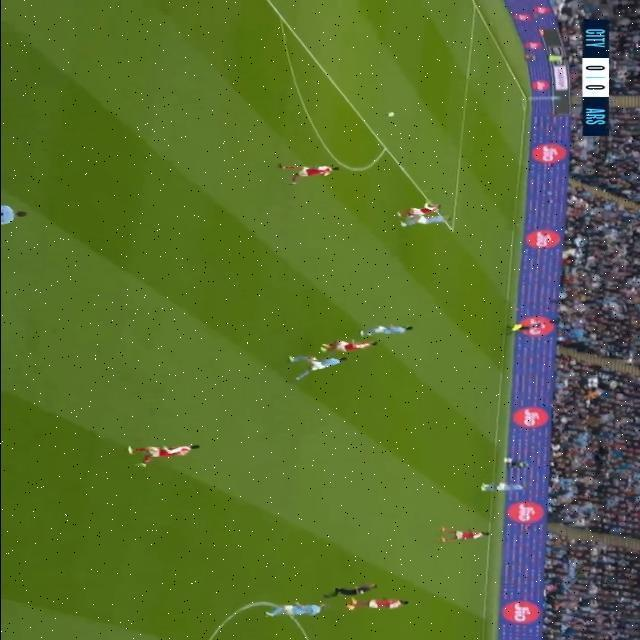player: (102, 433, 235, 480), (370, 200, 464, 232), (277, 352, 359, 380), (271, 156, 346, 186), (326, 334, 382, 355), (344, 592, 402, 611), (265, 601, 319, 621), (0, 197, 29, 224), (442, 526, 484, 544), (375, 322, 417, 334)
referee: (312, 579, 384, 599), (474, 476, 533, 496)
